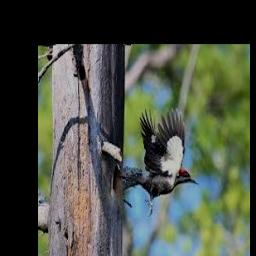Woodpecker: (118, 108, 200, 216)
